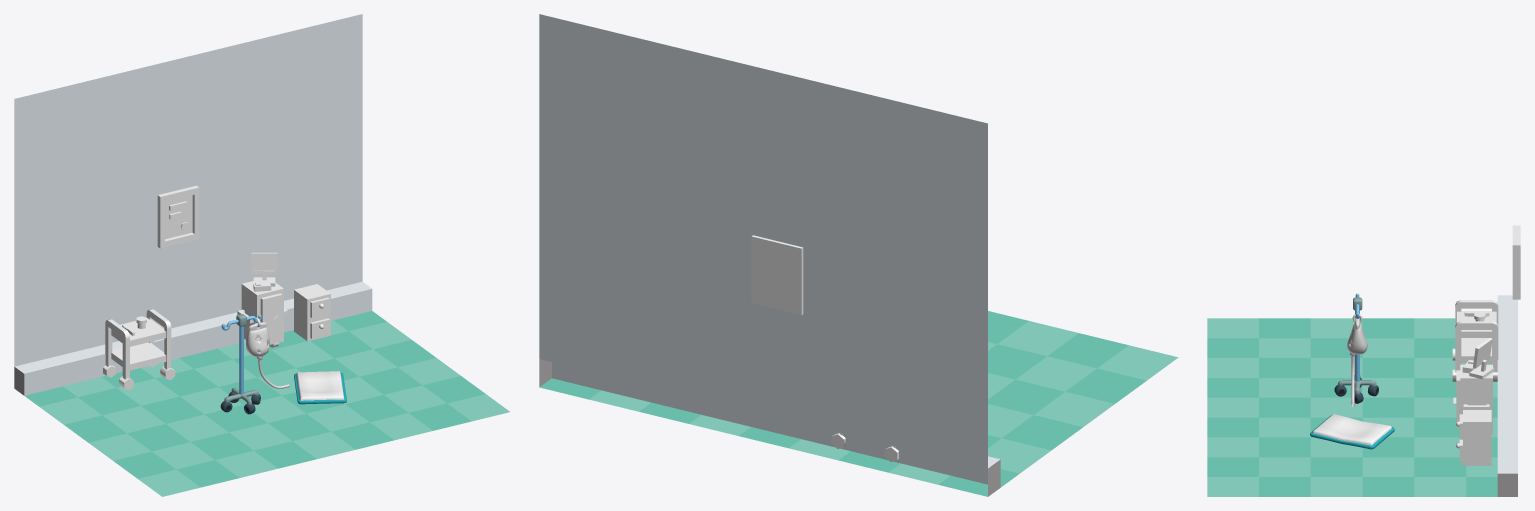
The model's file is HospitalIV.fbx.
The picture shows the model from 3 angles, left to right: view 1: azimuth 30°, elevation 25°; view 2: azimuth 150°, elevation 25°; view 3: azimuth 270°, elevation 25°; orthographic projection. The views are drawn at different scales.
Visible parts, largest first — view 1: Ground, Cube.001, IVPole, IVbag; view 2: Ground; view 3: Ground, Cube.001, IVPole, IVbag.
Part boxes in pixels (x1,y1,x2,y2): Ground: [14, 14, 509, 496]; Cube.001: [294, 371, 346, 404]; IVPole: [220, 314, 261, 414]; IVbag: [246, 322, 269, 356]; Ground: [539, 14, 1178, 496]; Ground: [1207, 225, 1520, 496]; Cube.001: [1310, 414, 1394, 449]; IVPole: [1334, 293, 1378, 403]; IVbag: [1347, 317, 1367, 354].
Bounding box in the file's own units: 1170 × 930 × 869.
